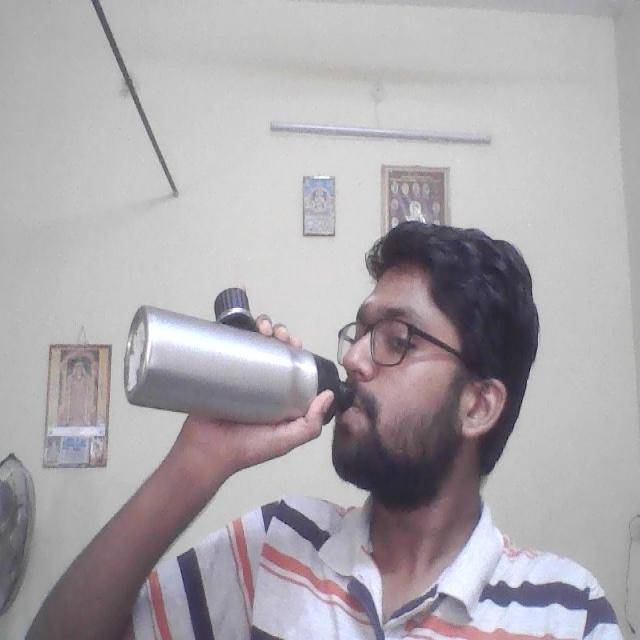Drinking: (121, 281, 346, 422)
